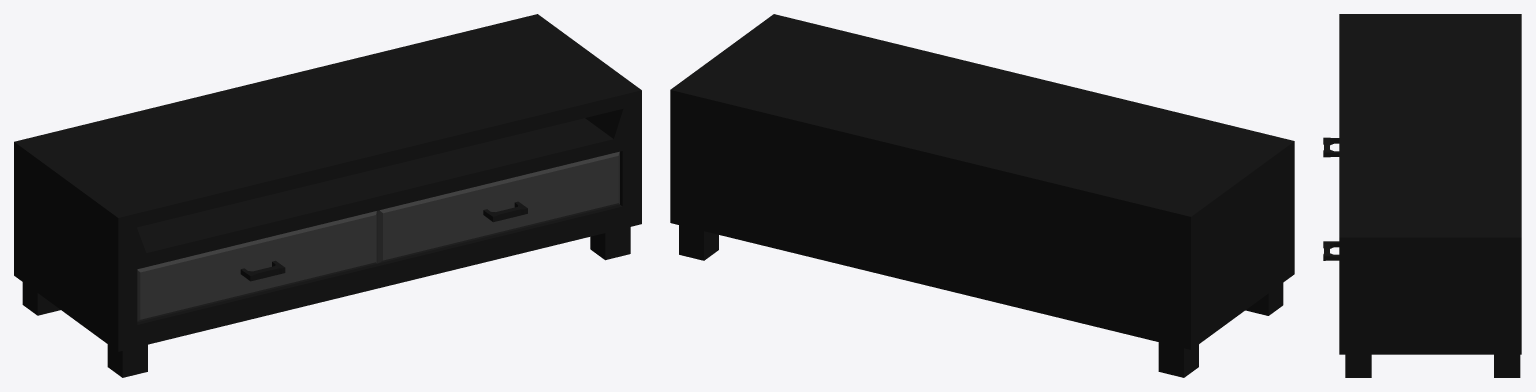
The model's file is Prop_Table_17.fbx.
3 renders of one model, left to right at view 1: azimuth 30°, elevation 25°; view 2: azimuth 150°, elevation 25°; view 3: azimuth 270°, elevation 25°, orthographic. The views are drawn at different scales.
Visible parts, largest first — view 1: Prop_Table_17; view 2: Prop_Table_17; view 3: Prop_Table_17.
Part boxes in pixels (box(x1,y1,x2,y2)): Prop_Table_17: box(14, 14, 641, 377); Prop_Table_17: box(670, 14, 1294, 377); Prop_Table_17: box(1323, 14, 1521, 377).
Size of the model in its own units: 200 by 60 by 75.
